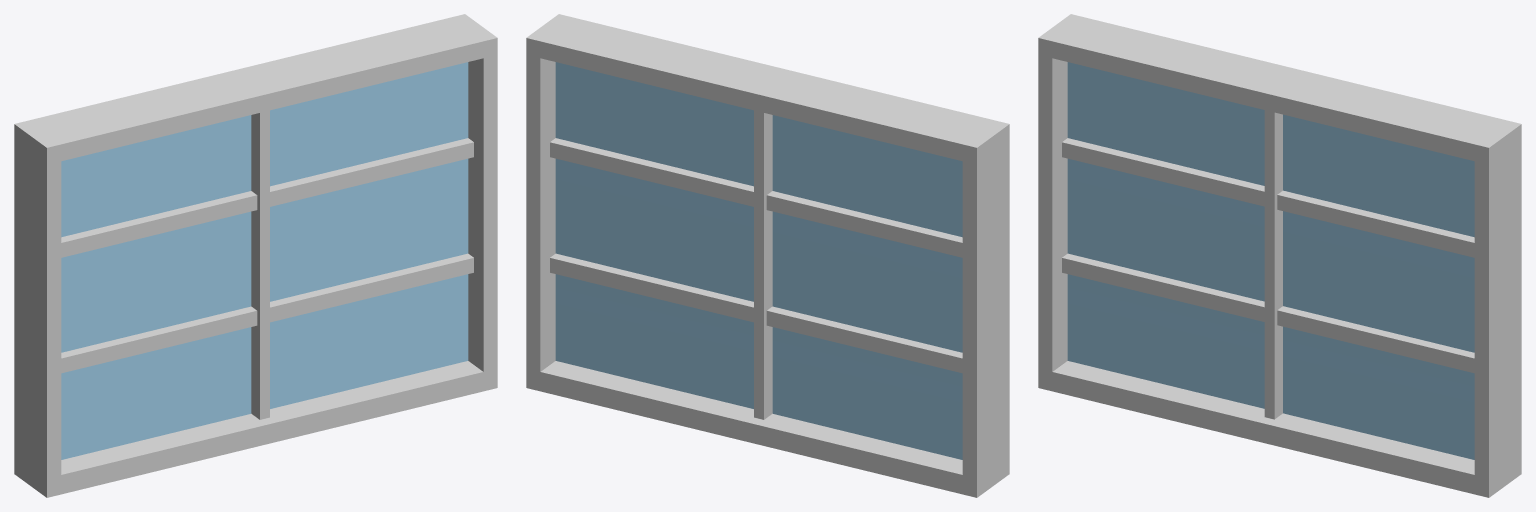
The model's file is window_020.fbx.
3 views of the same model, side by side, from view 1: azimuth 30°, elevation 25°; view 2: azimuth 150°, elevation 25°; view 3: azimuth 330°, elevation 25° (orthographic).
Visible parts, largest first — view 1: window_020; view 2: window_020; view 3: window_020.
Part boxes in pixels (bbox=[...]): window_020: bbox=[14, 14, 497, 497]; window_020: bbox=[526, 14, 1009, 497]; window_020: bbox=[1038, 14, 1521, 497].
Bounding box in the file's own units: 225 × 28.28 × 167.
